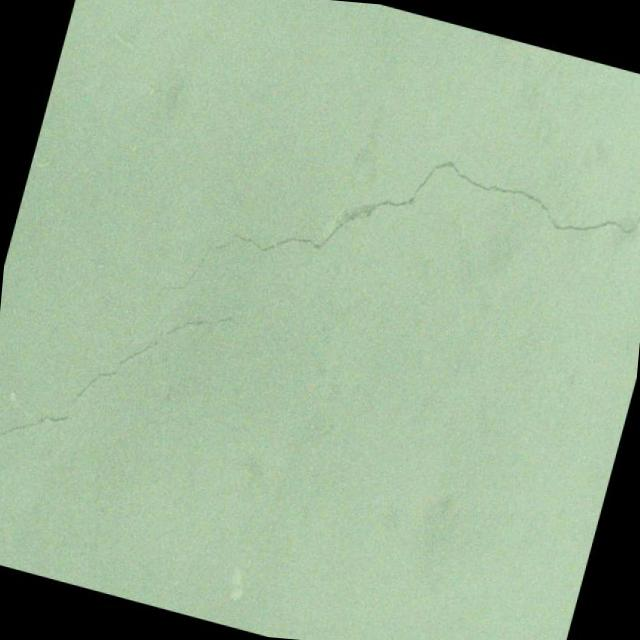crack: (88, 63, 640, 452), (0, 238, 269, 523)
